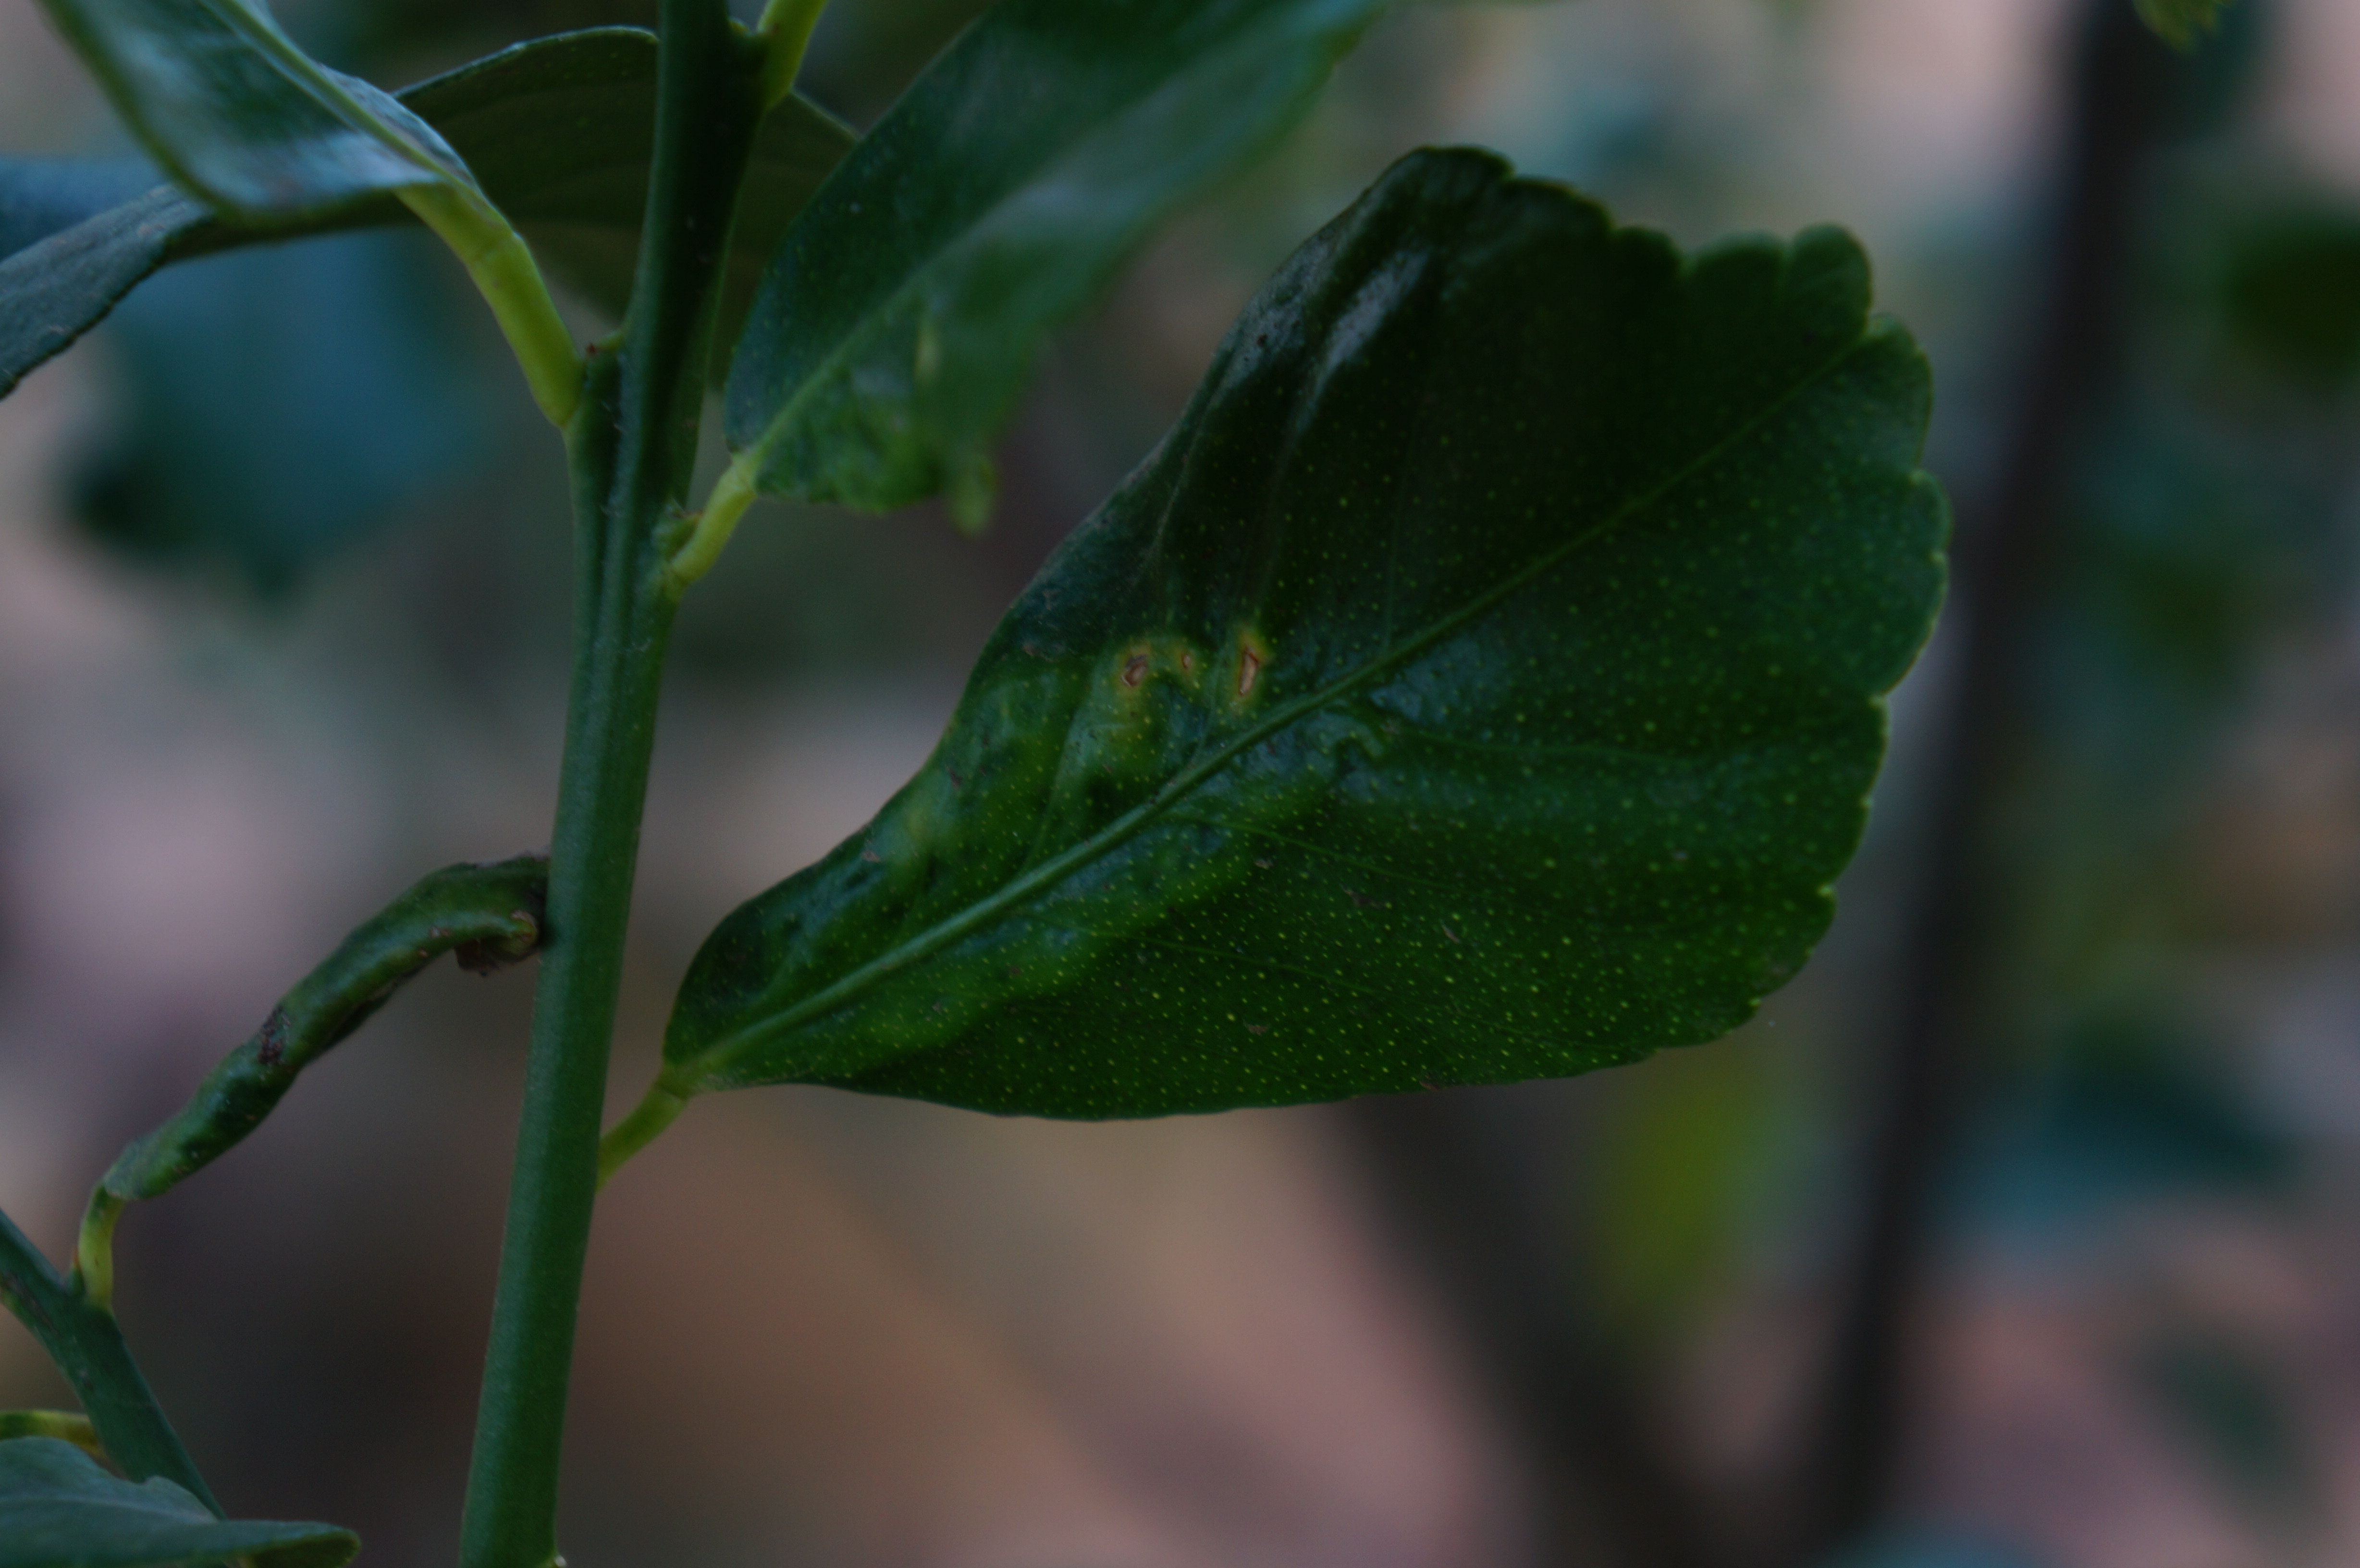curly: (84, 789, 570, 1223)
damage: (703, 598, 1379, 1106)
